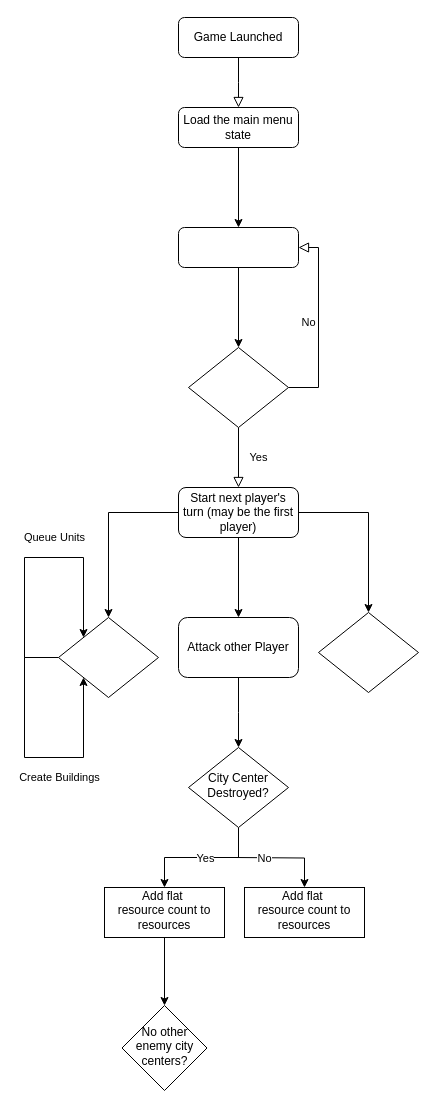
This 436x1108 diagram has some shape labels left out. The centre of each missing label's shape, as x and y in pixels:
Await Player Input: the point at 238,247
Explore Map: the point at 368,652
Player selected play?: the point at 238,387
Spend resources: the point at 108,657
